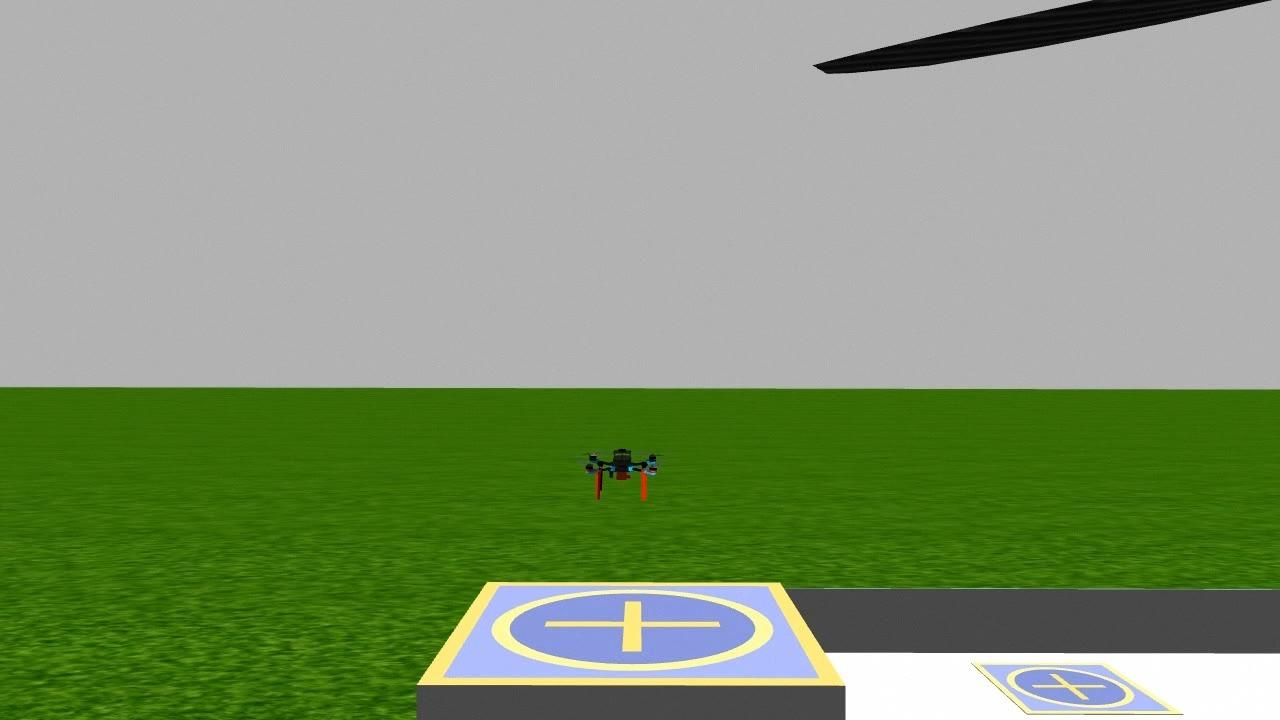UAV: (560, 434, 683, 506)
